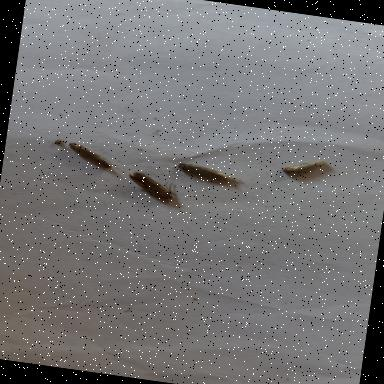pbw: (123, 169, 182, 204), (172, 160, 246, 185), (63, 139, 116, 171), (278, 153, 331, 181)
